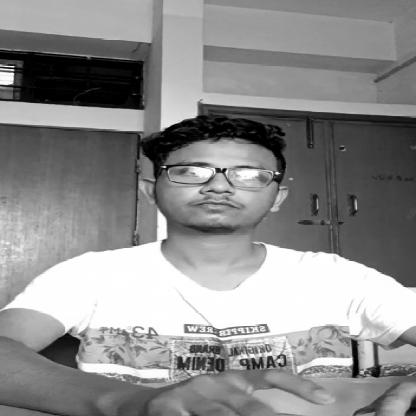Normal: (141, 122, 278, 236)
